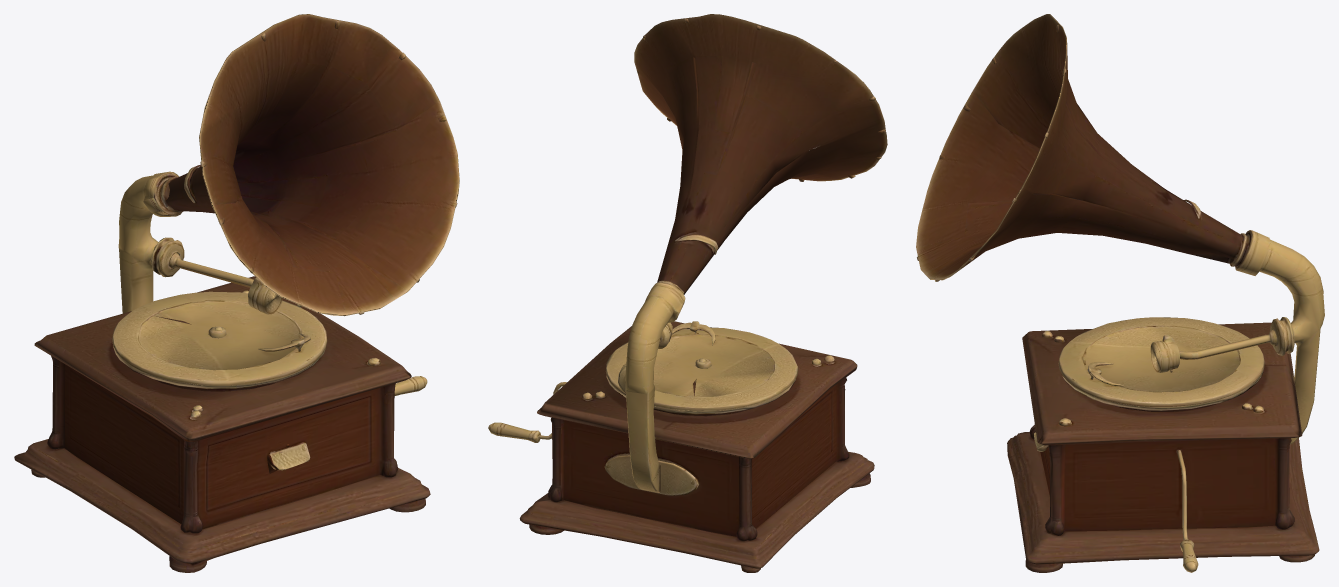
File: atd_gramophone.glb
3 views of the same model, side by side, from view 1: azimuth 30°, elevation 25°; view 2: azimuth 150°, elevation 25°; view 3: azimuth 270°, elevation 25° (orthographic). The views are drawn at different scales.
Visible parts, largest first — view 1: e2211ffa_a810_402f_ac6c_ffaa20a3d28a; view 2: e2211ffa_a810_402f_ac6c_ffaa20a3d28a; view 3: e2211ffa_a810_402f_ac6c_ffaa20a3d28a.
Part boxes in pixels (box(x1,y1,x2,y2)): e2211ffa_a810_402f_ac6c_ffaa20a3d28a: box(14, 14, 459, 572); e2211ffa_a810_402f_ac6c_ffaa20a3d28a: box(488, 14, 887, 572); e2211ffa_a810_402f_ac6c_ffaa20a3d28a: box(916, 14, 1324, 572).
Bounding box in the file's own units: 0.7456 × 0.9995 × 0.7671.
Materials: 1 (1 with a texture image).
